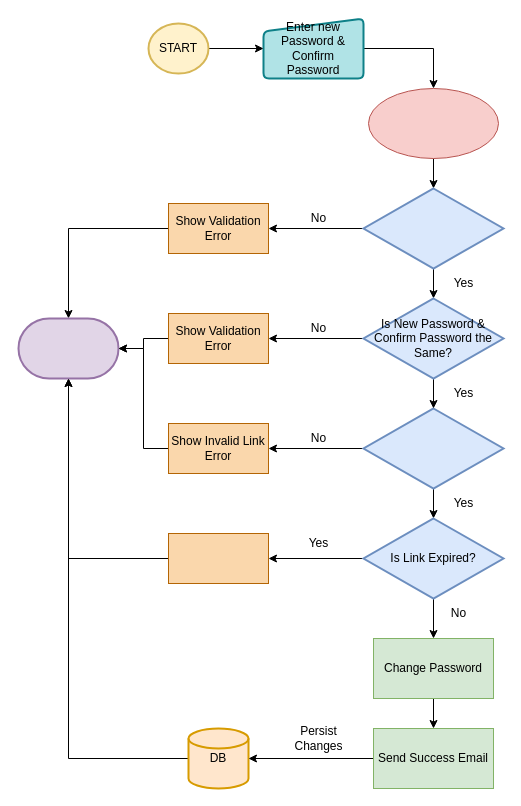
Image size: 521x806. Some labels were removed from this diagram. Here are the shapes that lost their labels. From the top down, the centre of each, then its label:
At point 433,123: "Reset Password is Pressed".
At point 433,228: "Is Password Format Correct?".
At point 68,348: "End".
At point 433,448: "Is Link Proper?".
At point 218,558: "Show Link Expired Error".
